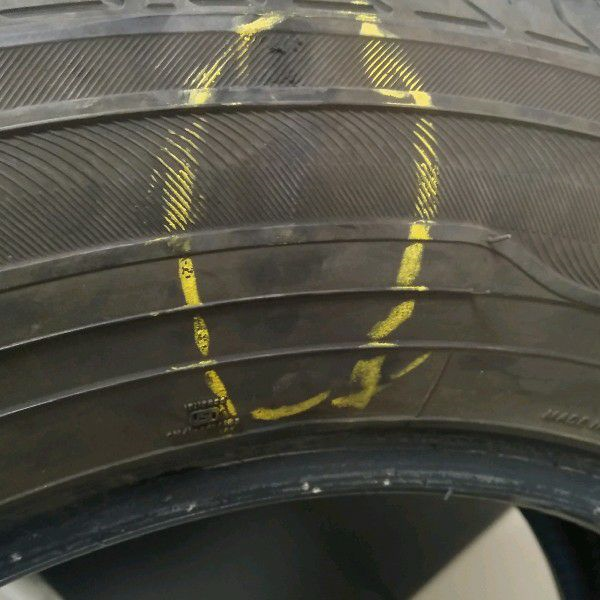CBU: (229, 138, 376, 286)
